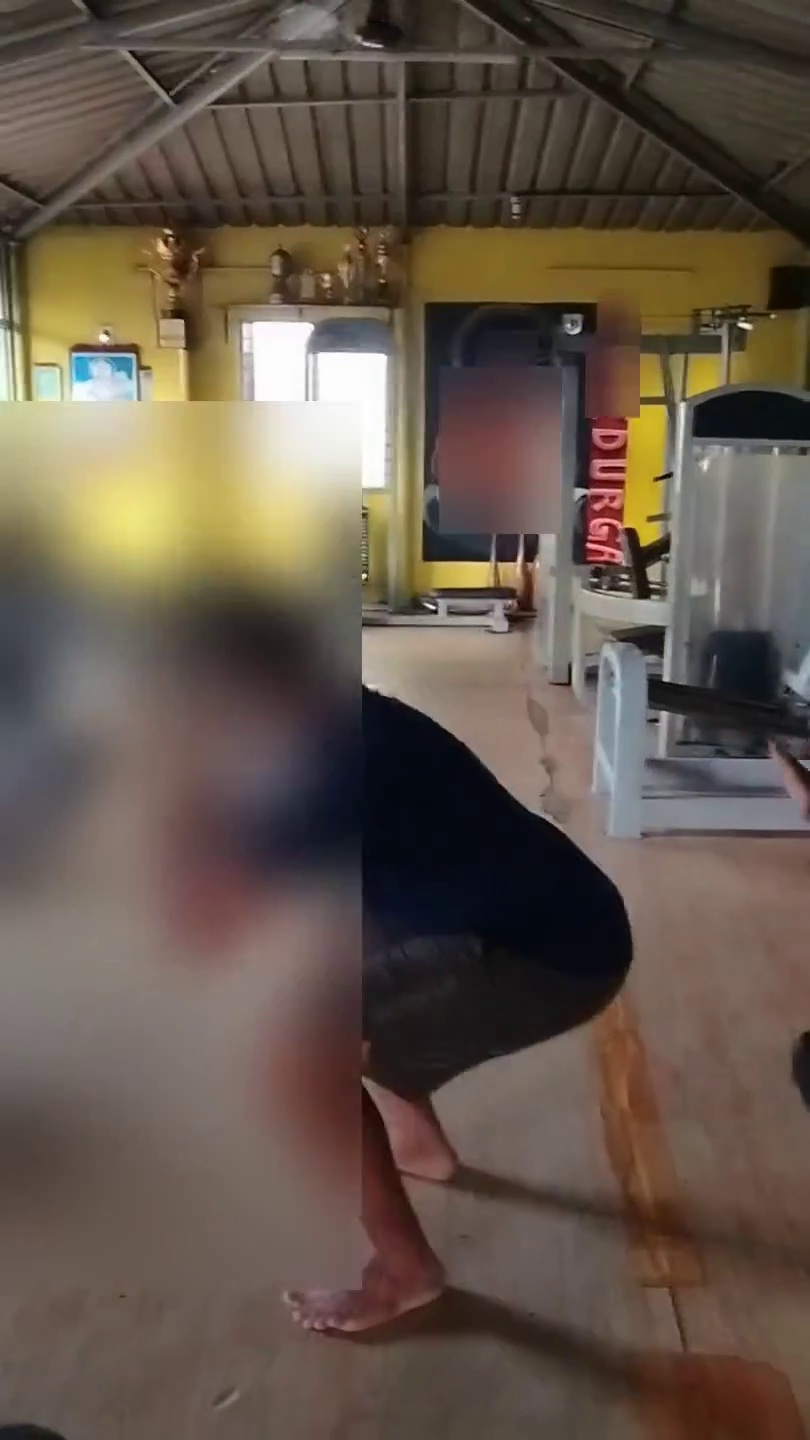squat: (150, 617, 608, 1370)
